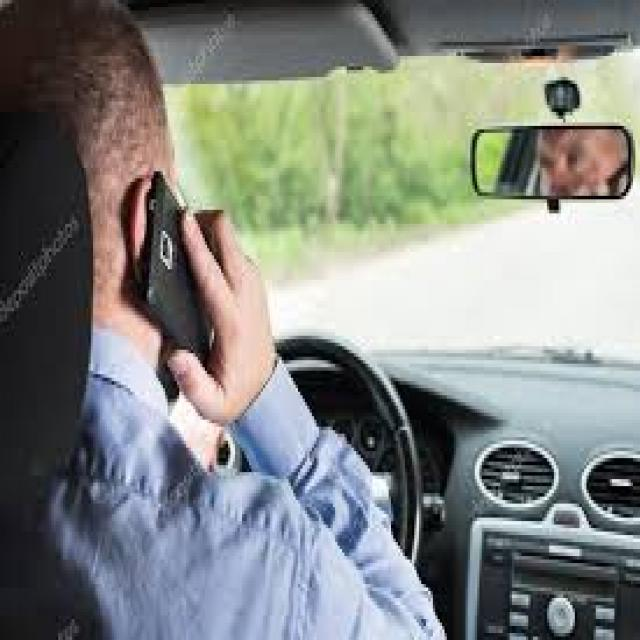Cellphone_calling: (121, 150, 268, 410)
